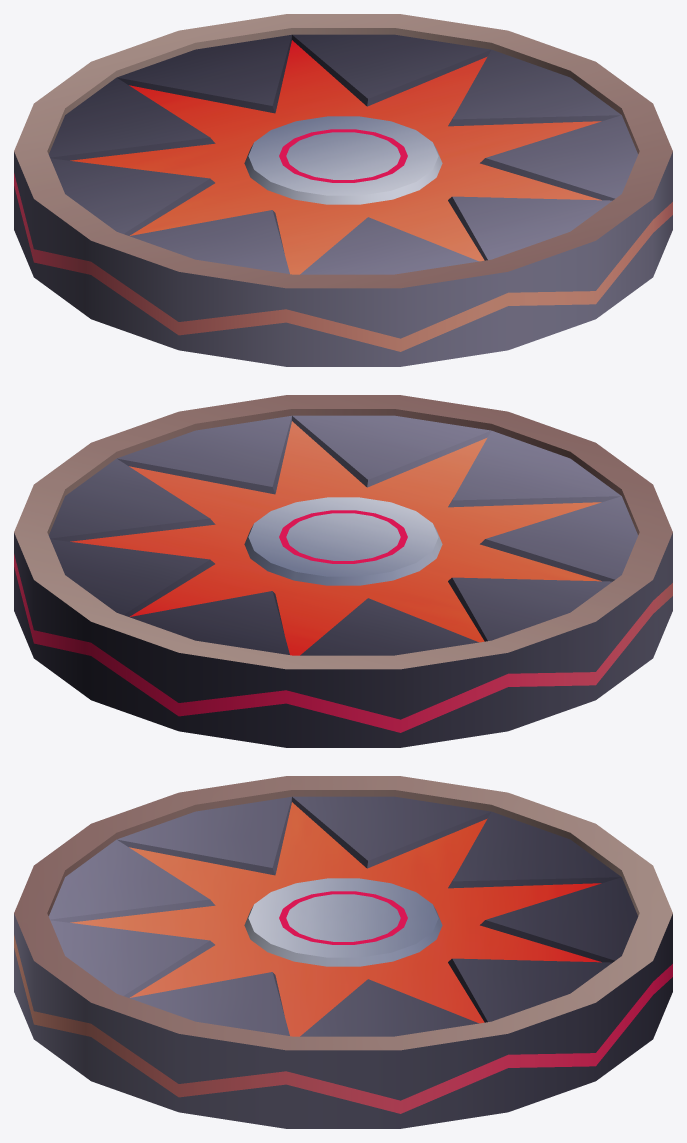
File: trutrungbay.fbx
3 views of the same model, one above another, from view 1: azimuth 30°, elevation 25°; view 2: azimuth 150°, elevation 25°; view 3: azimuth 270°, elevation 25° (orthographic).
Parts seen in each view (by area): view 1: ttutrungbay; view 2: ttutrungbay; view 3: ttutrungbay.
Part boxes in pixels (box(x1,y1,x2,y2)): ttutrungbay: box(14, 14, 672, 366); ttutrungbay: box(14, 395, 672, 747); ttutrungbay: box(14, 776, 672, 1128).
Size of the model in its own units: 1.97 by 0.263 by 2.
